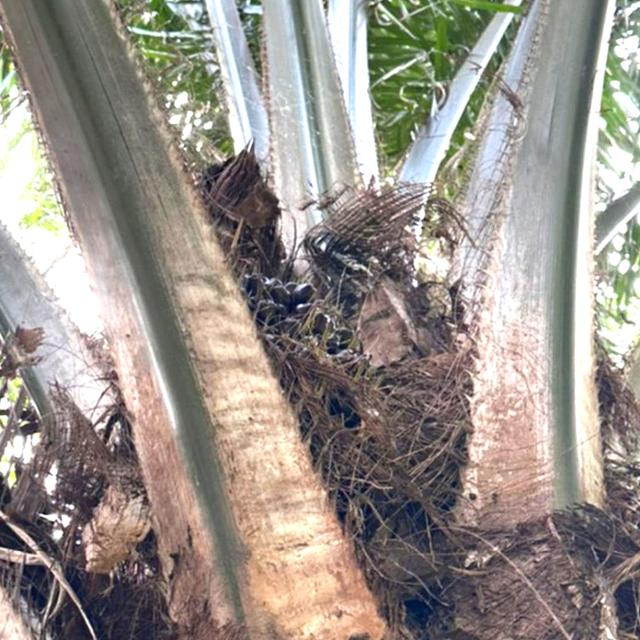unripe: (204, 257, 402, 565)
